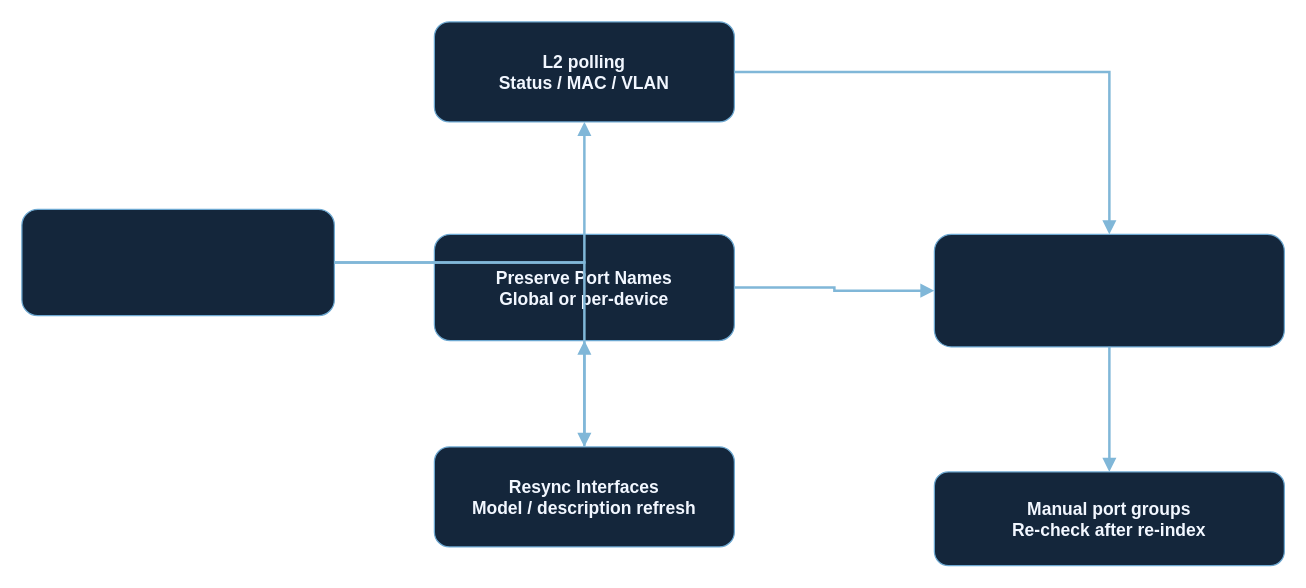
The diagram is 1306 pixels wide and 588 high, and some of its shapes have lost their labels. Each missing label, with the centre of its shape:
"FortiNAC interface model Inventory Ports view" goes at pixel 1108 290.
"Switch interface table ifName / ifDescr" goes at pixel 177 262.
